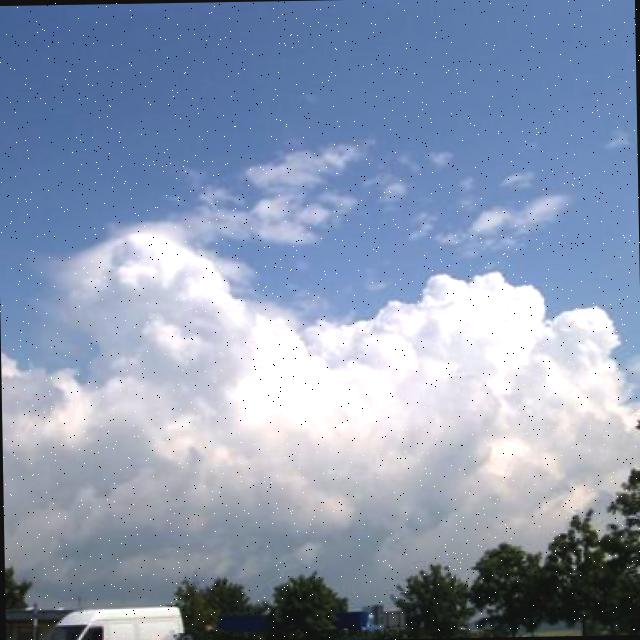Cu: (1, 149, 640, 517)
